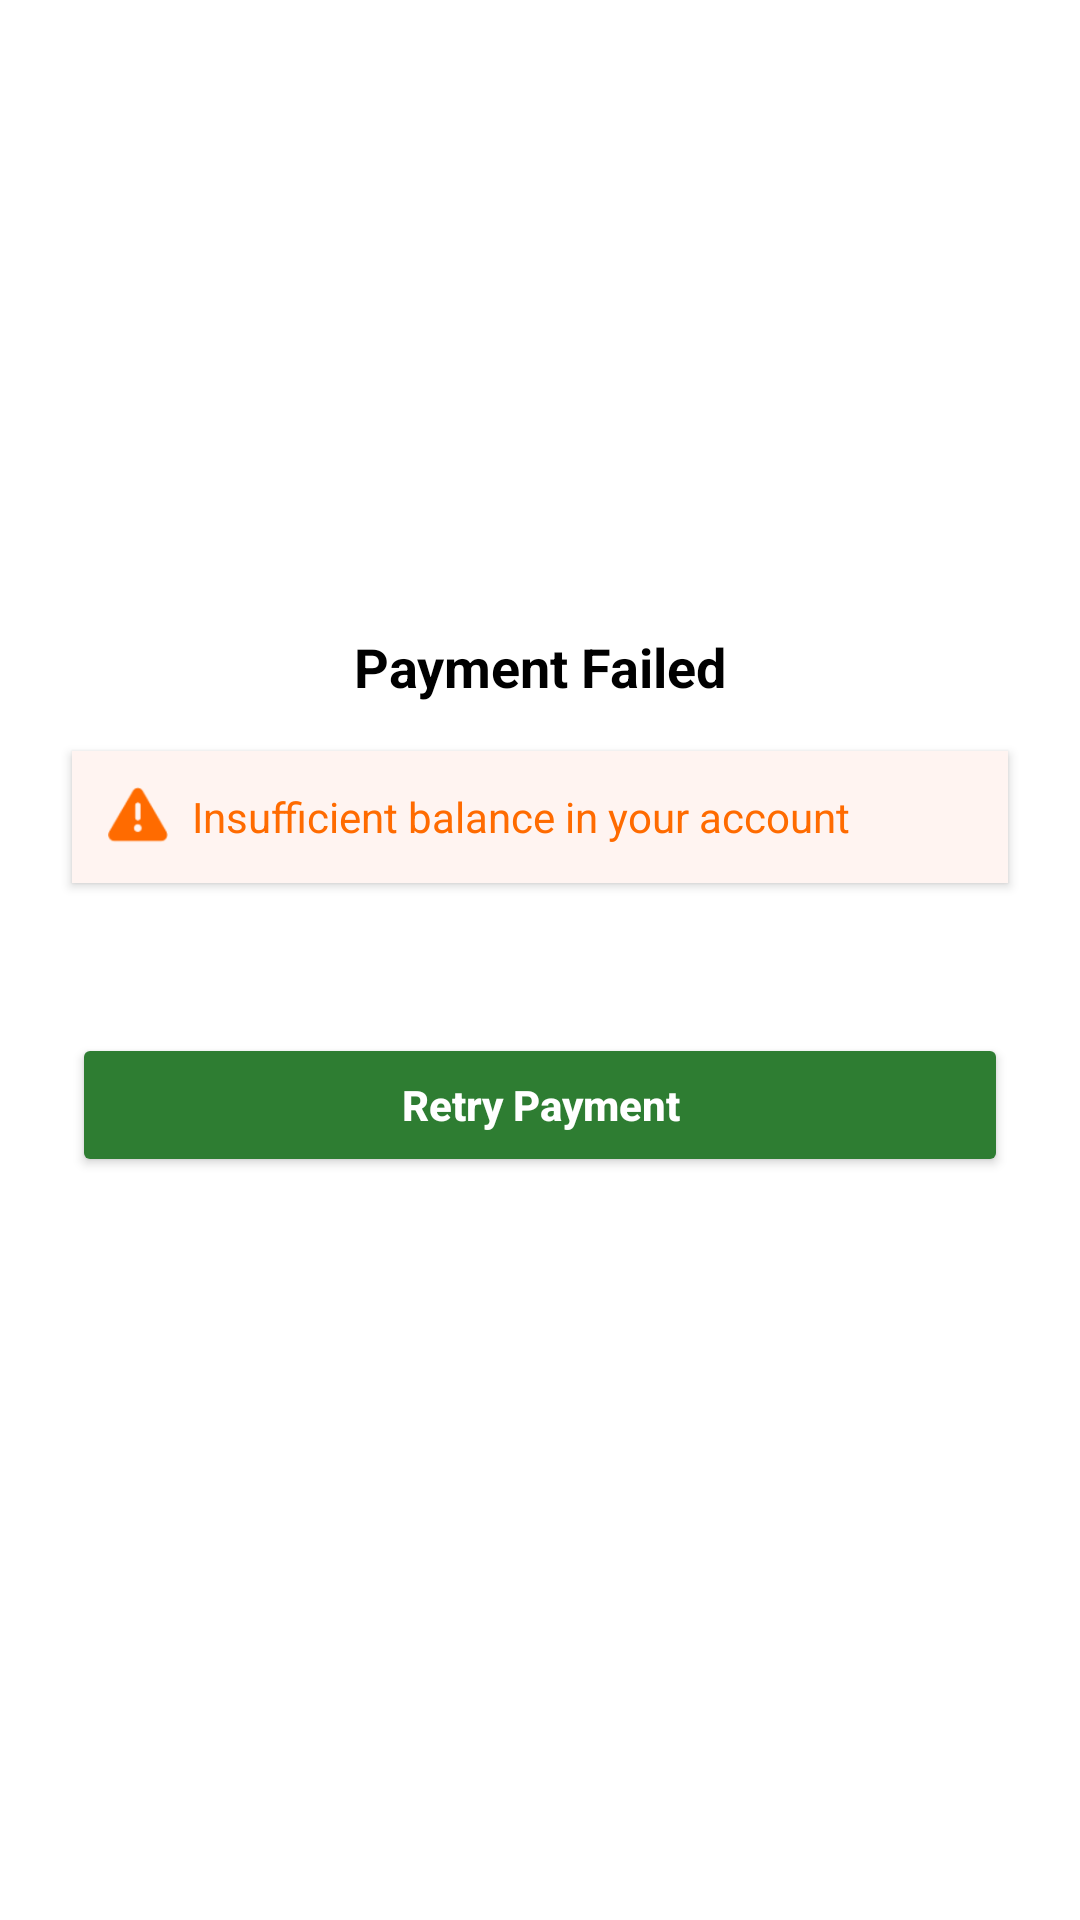

Icons on this 1080 x 1920 Android screen, each with the point to tap as (x=x, y=y):
alert: (x=138, y=814)
